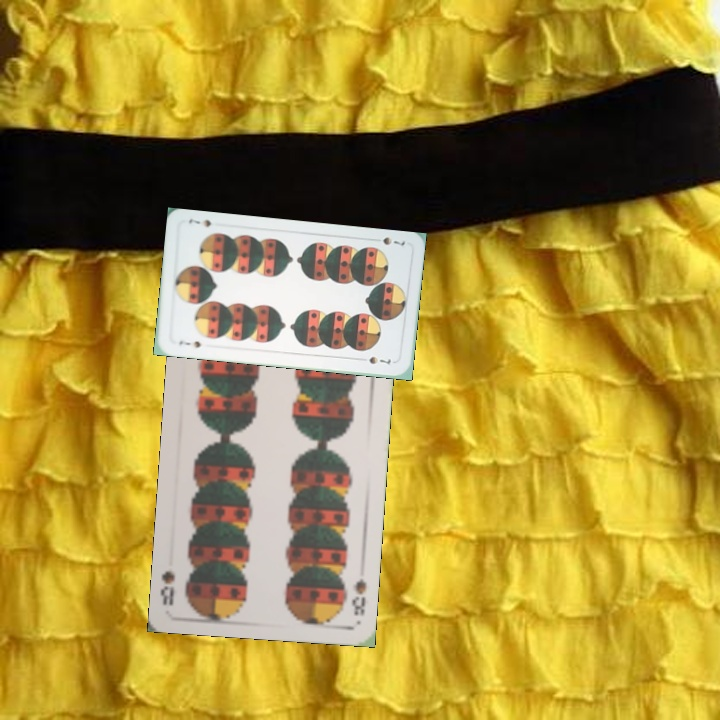S7: (379, 233, 407, 248), (175, 337, 206, 350)
S8: (347, 575, 369, 618)
